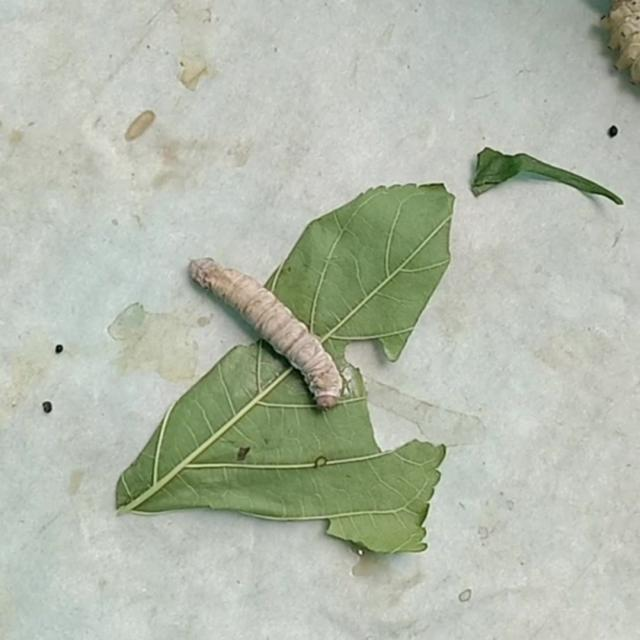Grasserie: (179, 247, 356, 411)
